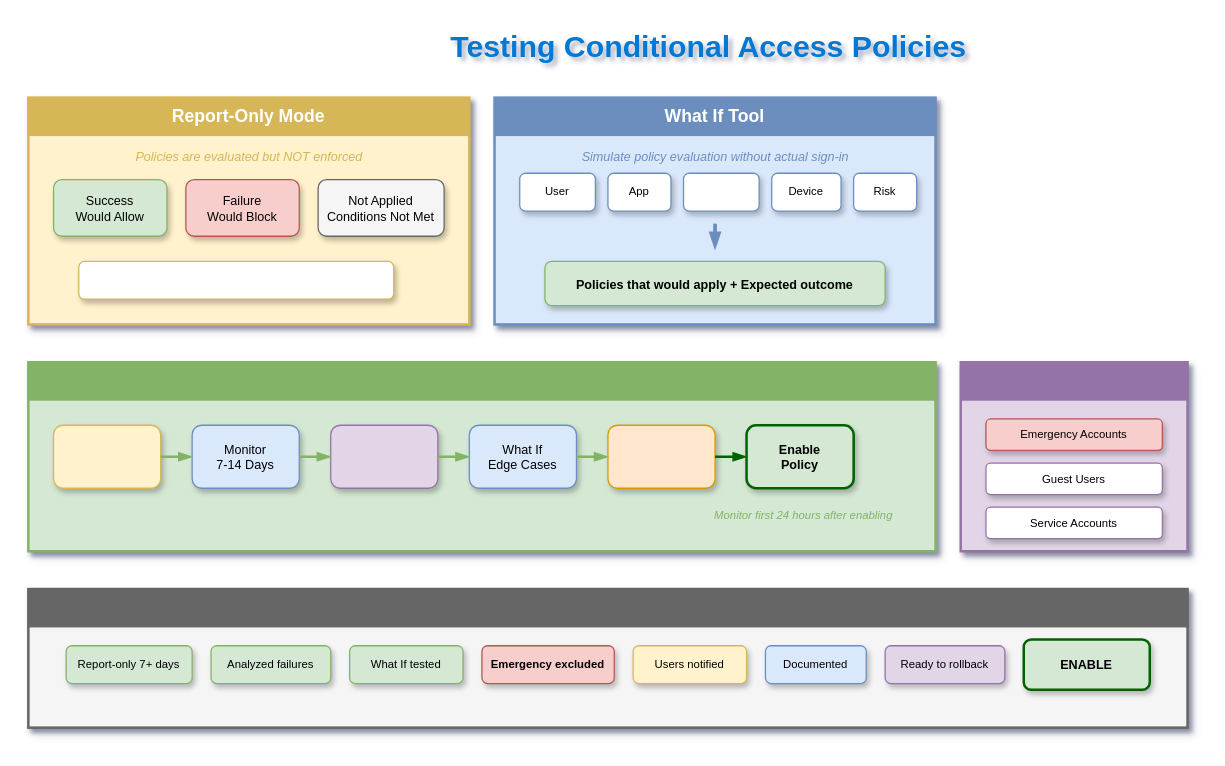
The diagram is 1225 pixels wide and 766 high, and some of its shapes have lost their labels. Each missing label, with the centre of its shape:
Adjust If Needed: the point at 662,458
Analyze Impact: the point at 384,458
Create Policy Report-Only: the point at 107,458
Edge Case Testing: the point at 1073,380
Location: the point at 722,193
Results logged to Sign-in logs → Conditional Access tab: the point at 236,281
Testing Checklist: the point at 607,607
Testing Workflow: the point at 481,380
